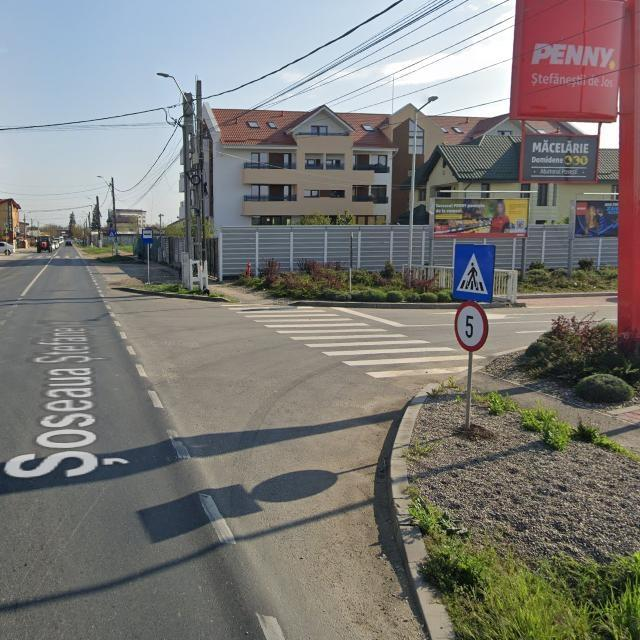info_crosswalk: (452, 243, 496, 301)
